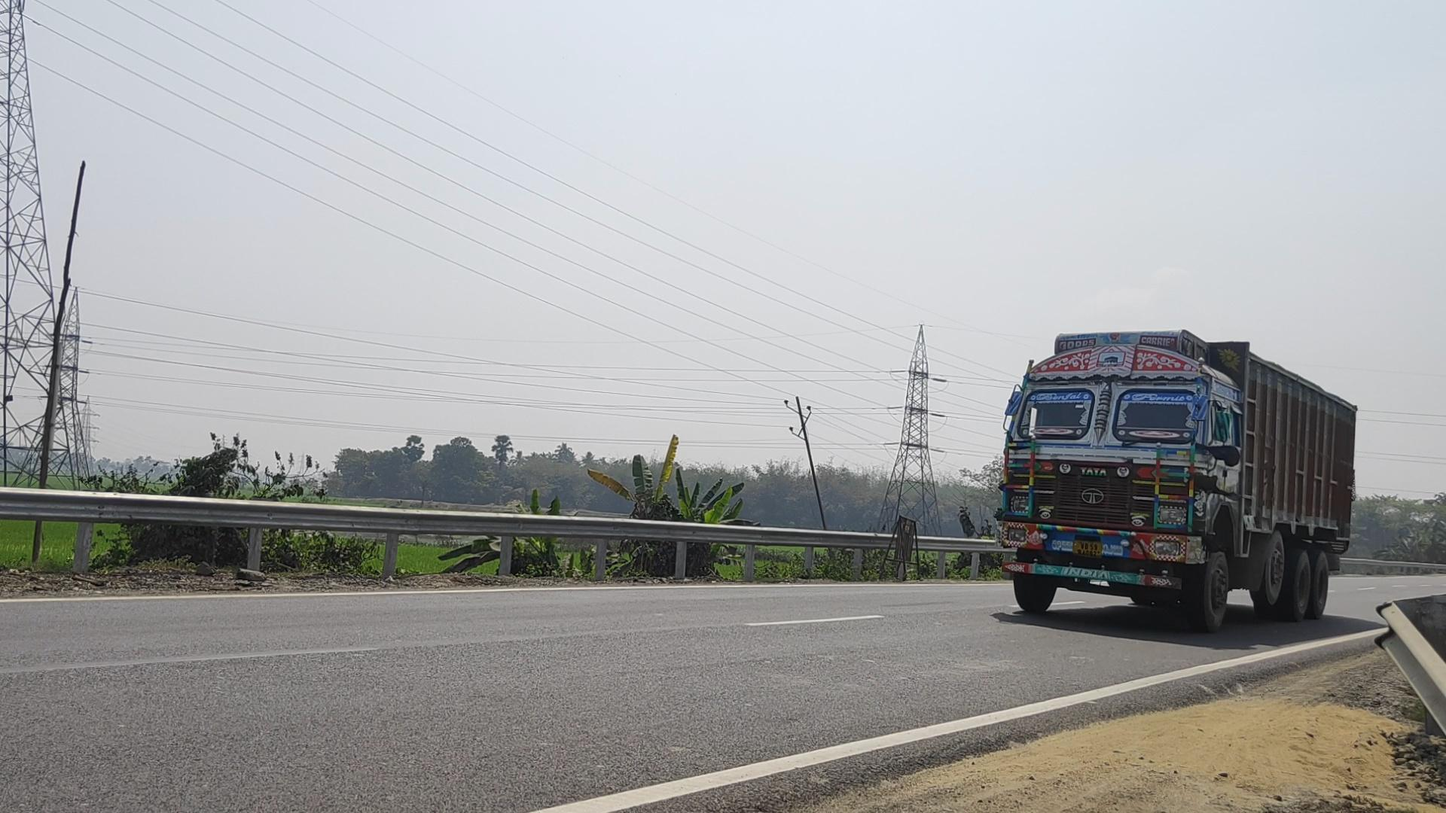truck: (998, 329, 1357, 634)
